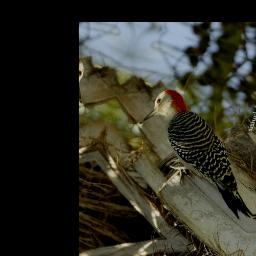Woodpecker: (122, 80, 256, 225)
